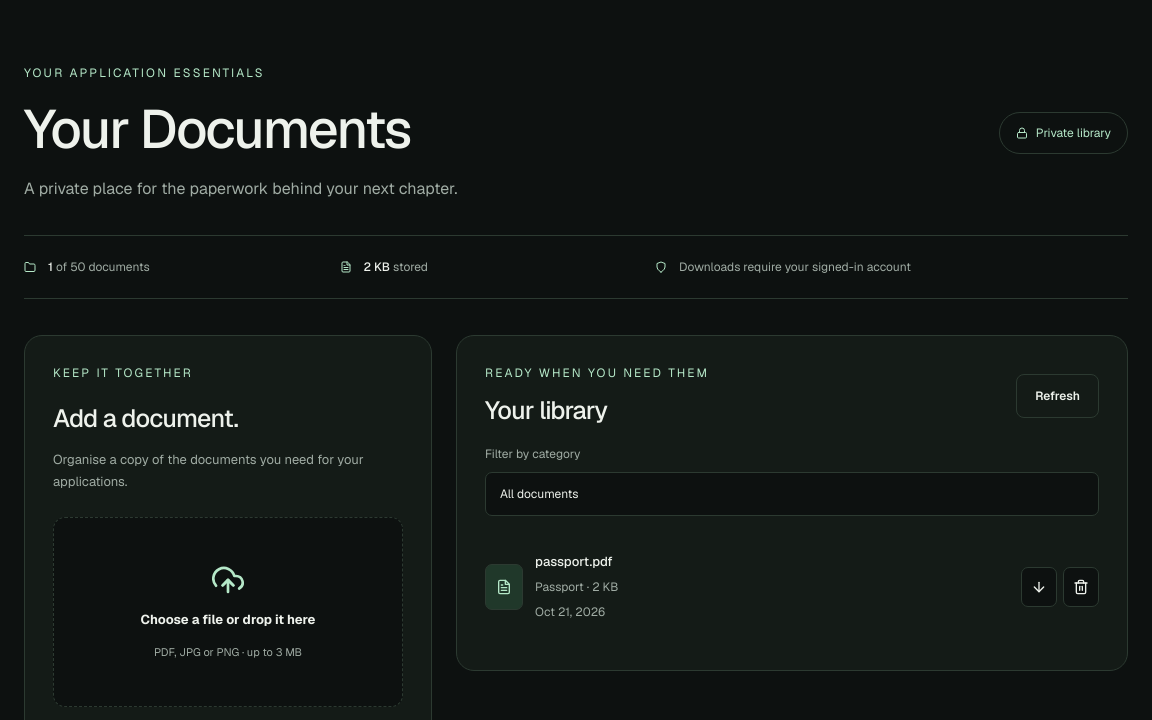
Scenario: delete confirmation and failed deletion preserve the file
This screenshot has width=1152, height=720.
Expected: the text "passport.pdf" is shown, [535,553,613,570]
Click the button named "Delete passport.pdf".
click(1081, 587)  # box [1063,567,1099,607]
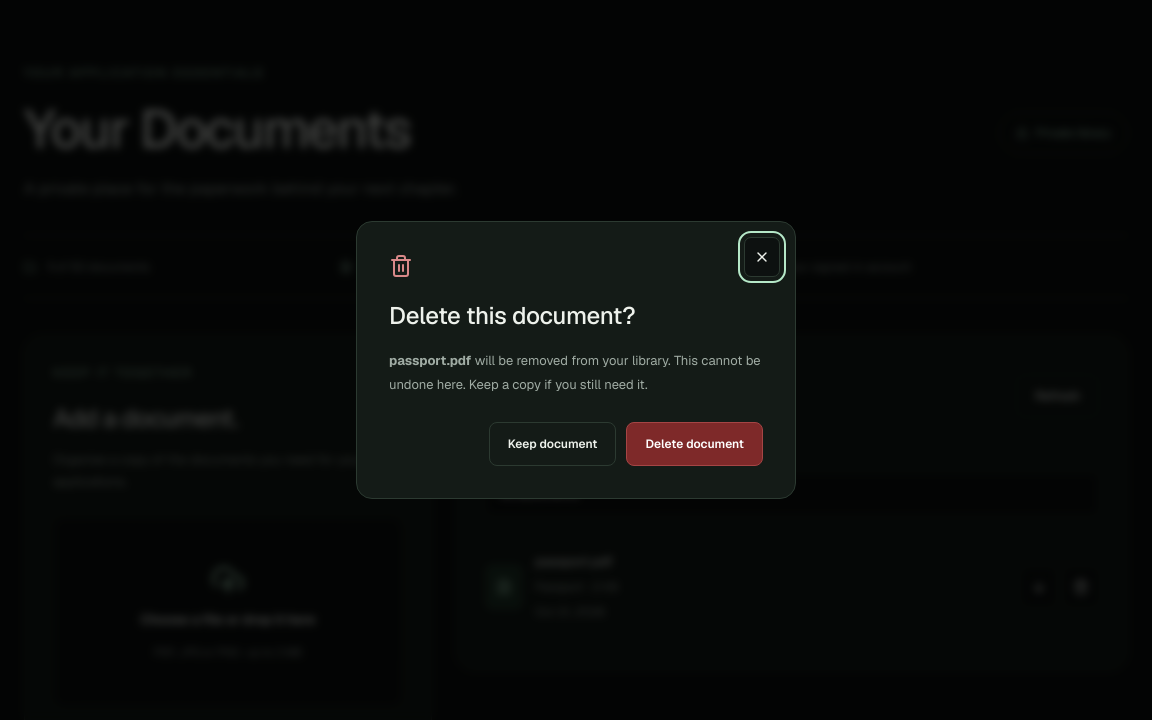
Click the button "Delete document".
click(695, 444)  # box [626,422,763,466]
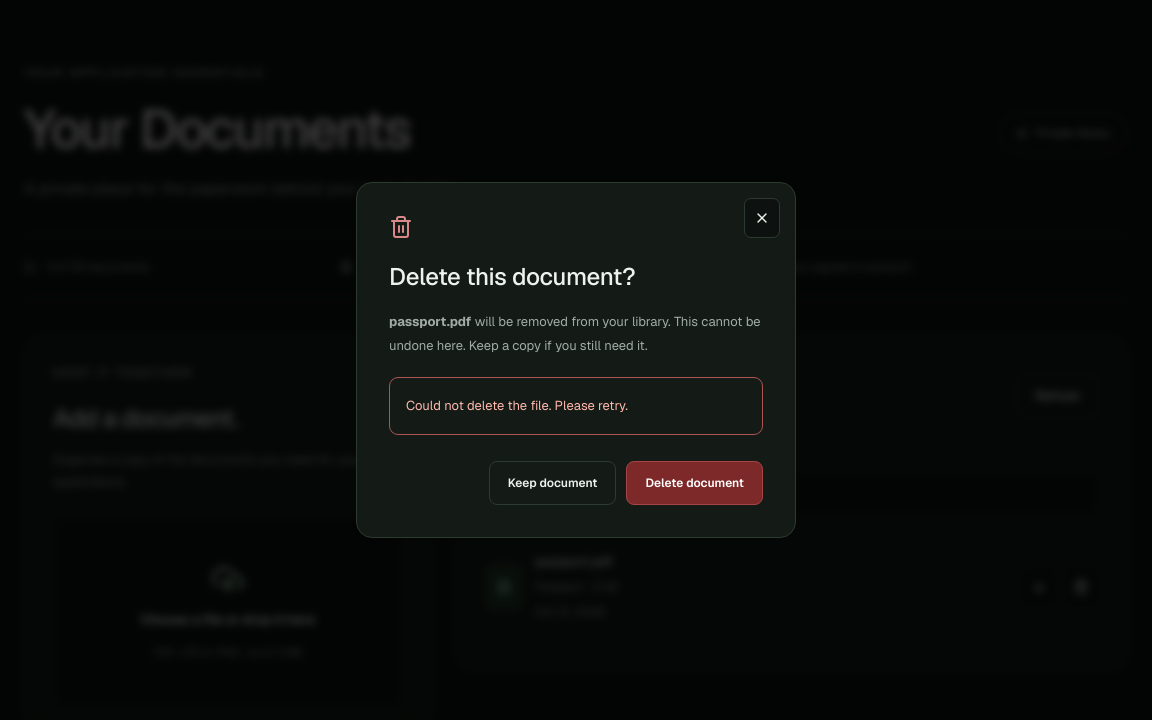
Expected: the text "Your document has been deleted from your library." is not shown
Expected: the message "Could not delete the file. Please retry." is shown, [389,377,763,435]
Click the button "Delete document".
click(695, 483)  # box [626,461,763,505]
(page scrolled)
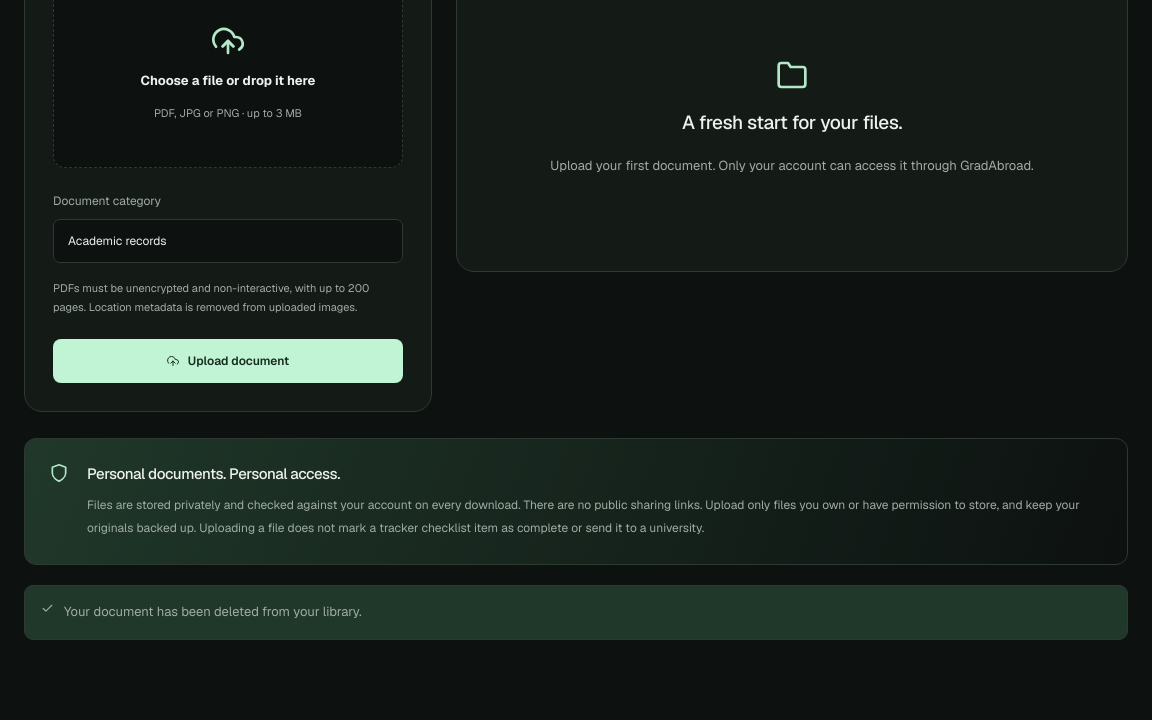
Expected: the text "Your document has been deleted from your library." is shown, [24,585,1128,640]
Expected: the text "passport.pdf" is gone
